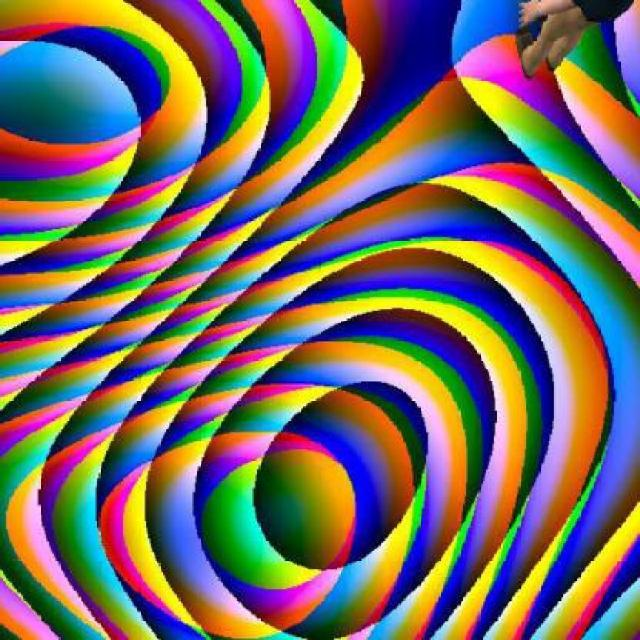Person: (514, 0, 635, 77)
